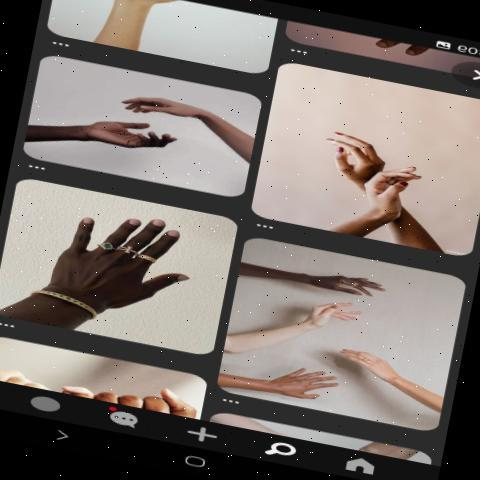Hands: (22, 214, 196, 324), (216, 297, 371, 353), (354, 157, 437, 239), (225, 263, 396, 301), (56, 116, 185, 166), (305, 113, 385, 192), (221, 365, 339, 398), (335, 344, 421, 386), (114, 90, 234, 119)
